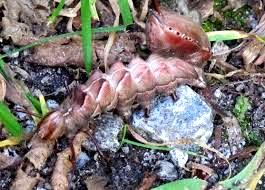Lobster Moth: (30, 6, 217, 169)
